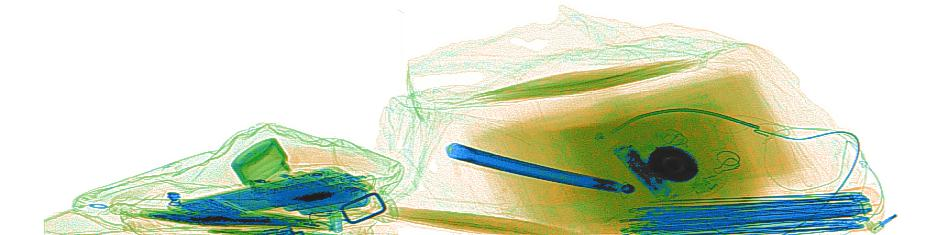battery: (263, 169, 377, 219), (612, 142, 674, 202)
